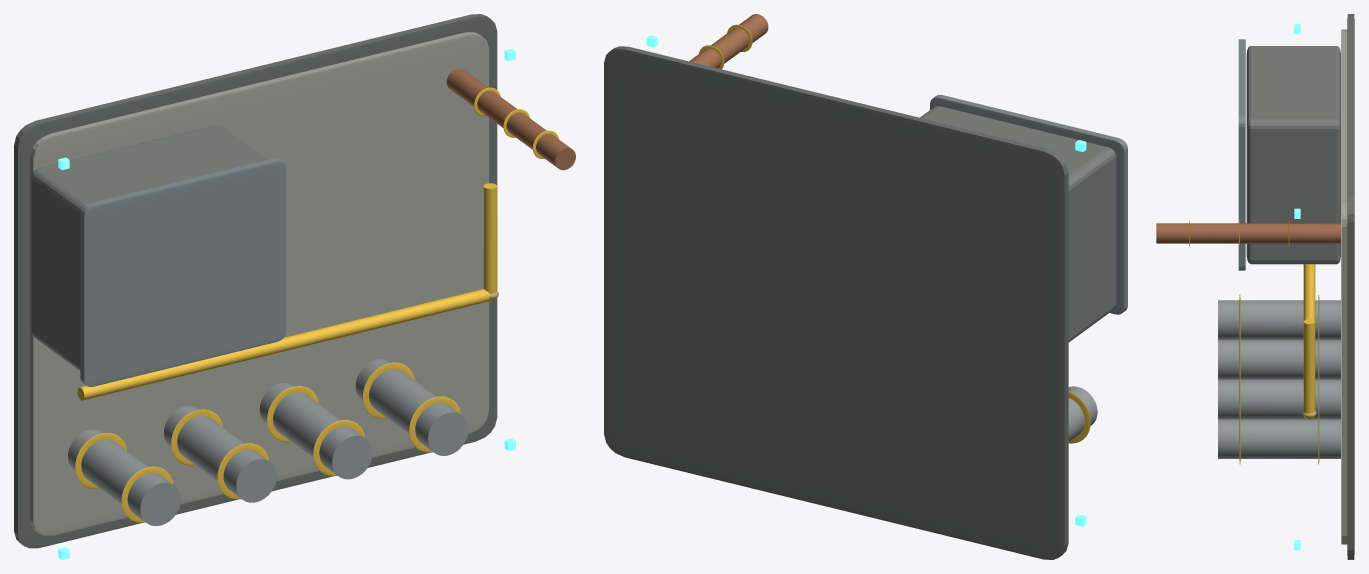
The model's file is b-12-gas-pump-lod1.glb.
The picture shows the model from 3 angles, left to right: view 1: azimuth 30°, elevation 25°; view 2: azimuth 150°, elevation 25°; view 3: azimuth 270°, elevation 25°; orthographic projection. The views are drawn at different scales.
Visible parts, largest first — view 1: foundation_inner_pad, gas_compressor_hall_roof, foundation, gas_compressor_hall_main_hall, gas_header_segment_1, separator_0_vessel, separator_2_vessel, separator_3_vessel, separator_1_vessel, gas_flare_stack, gas_header_segment_2; view 2: foundation, gas_compressor_hall_main_hall, gas_compressor_hall_roof, gas_flare_stack, separator_0_vessel; view 3: gas_compressor_hall_main_hall, separator_3_vessel, separator_2_vessel, separator_0_vessel, separator_1_vessel, foundation, gas_flare_stack, foundation_inner_pad, gas_compressor_hall_roof, gas_header_segment_2, gas_header_segment_1.
Boxes of the visible parts, x1=… form: foundation_inner_pad: x1=30, y1=32, x2=488, y2=535; gas_compressor_hall_roof: x1=80, y1=158, x2=286, y2=386; foundation: x1=14, y1=14, x2=497, y2=548; gas_compressor_hall_main_hall: x1=31, y1=125, x2=266, y2=370; gas_header_segment_1: x1=77, y1=289, x2=490, y2=400; separator_0_vessel: x1=68, y1=429, x2=180, y2=525; separator_2_vessel: x1=259, y1=382, x2=372, y2=479; separator_3_vessel: x1=355, y1=359, x2=468, y2=455; separator_1_vessel: x1=164, y1=406, x2=276, y2=502; gas_flare_stack: x1=446, y1=68, x2=575, y2=170; gas_header_segment_2: x1=483, y1=183, x2=496, y2=293; foundation: x1=604, y1=46, x2=1068, y2=559; gas_compressor_hall_main_hall: x1=920, y1=106, x2=1116, y2=342; gas_compressor_hall_roof: x1=930, y1=95, x2=1127, y2=314; gas_flare_stack: x1=689, y1=14, x2=768, y2=68; separator_0_vessel: x1=1068, y1=386, x2=1097, y2=441; gas_compressor_hall_main_hall: x1=1246, y1=46, x2=1340, y2=264; separator_3_vessel: x1=1218, y1=419, x2=1340, y2=458; separator_2_vessel: x1=1218, y1=379, x2=1340, y2=419; separator_0_vessel: x1=1218, y1=300, x2=1340, y2=339; separator_1_vessel: x1=1218, y1=340, x2=1340, y2=379; foundation: x1=1347, y1=14, x2=1354, y2=559; gas_flare_stack: x1=1156, y1=223, x2=1340, y2=243; foundation_inner_pad: x1=1341, y1=29, x2=1347, y2=544; gas_compressor_hall_roof: x1=1238, y1=39, x2=1245, y2=270; gas_header_segment_2: x1=1303, y1=319, x2=1315, y2=413; gas_header_segment_1: x1=1303, y1=264, x2=1315, y2=321.
Size of what is drawn, in the model's own units: 13 by 11 by 5.48.
